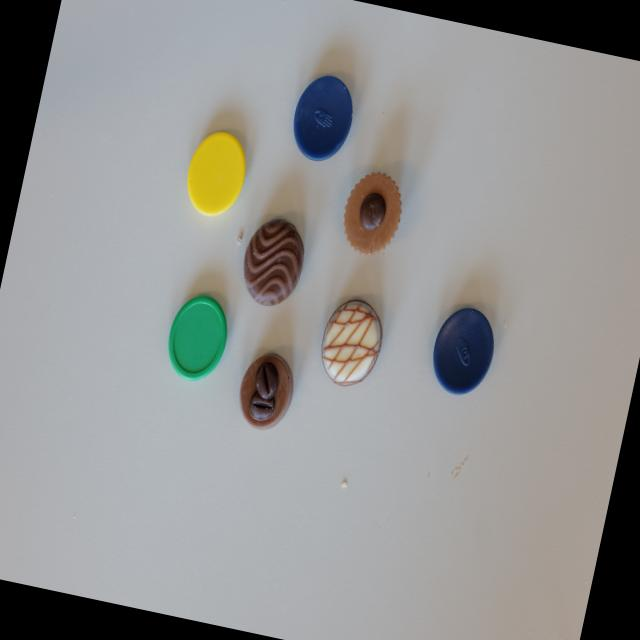Arabia: (232, 348, 299, 434)
Creme_brulee: (314, 293, 389, 393)
Noblesse: (337, 168, 409, 259)
Noir_authentique: (234, 211, 310, 312)
